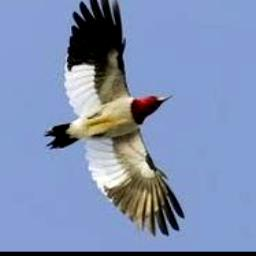Woodpecker: (44, 0, 183, 236)
